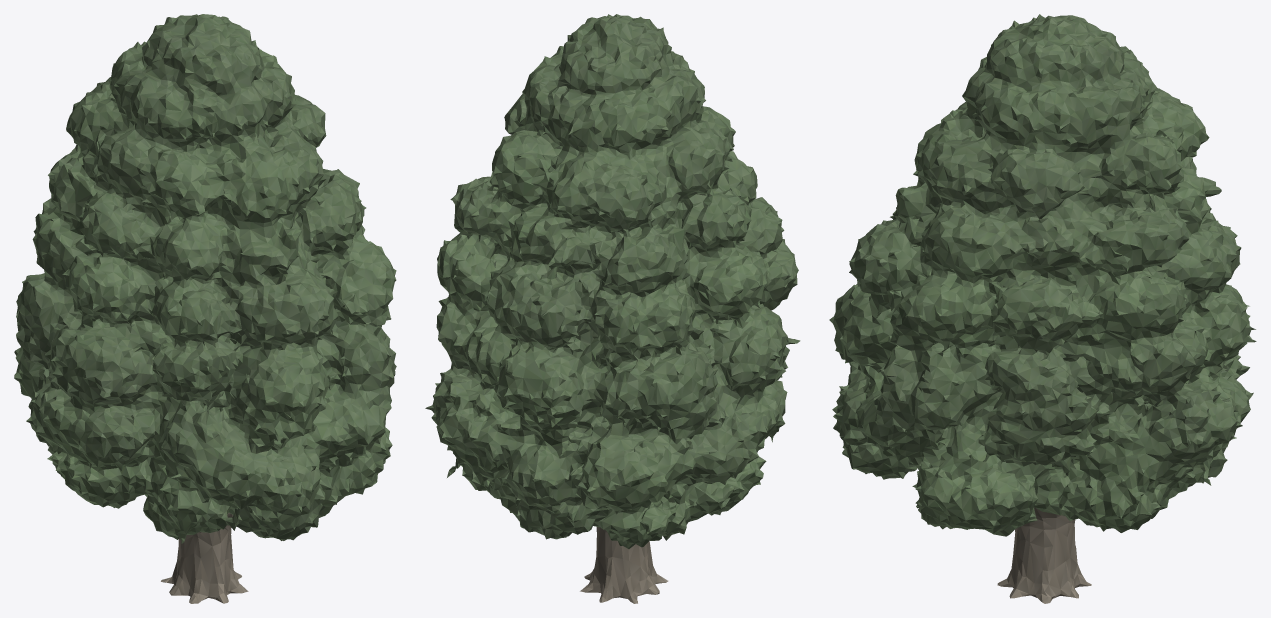
Rendered from ash_tree.glb.
3 views of the same model, side by side, from view 1: azimuth 30°, elevation 25°; view 2: azimuth 150°, elevation 25°; view 3: azimuth 270°, elevation 25° (orthographic).
Visible parts, largest first — view 1: world; view 2: world; view 3: world.
Part boxes in pixels (bbox=[...]): world: bbox=[14, 14, 396, 603]; world: bbox=[425, 14, 800, 603]; world: bbox=[829, 14, 1256, 603].
Size of the model in its own units: 2.56 by 4.5 by 3.05.
